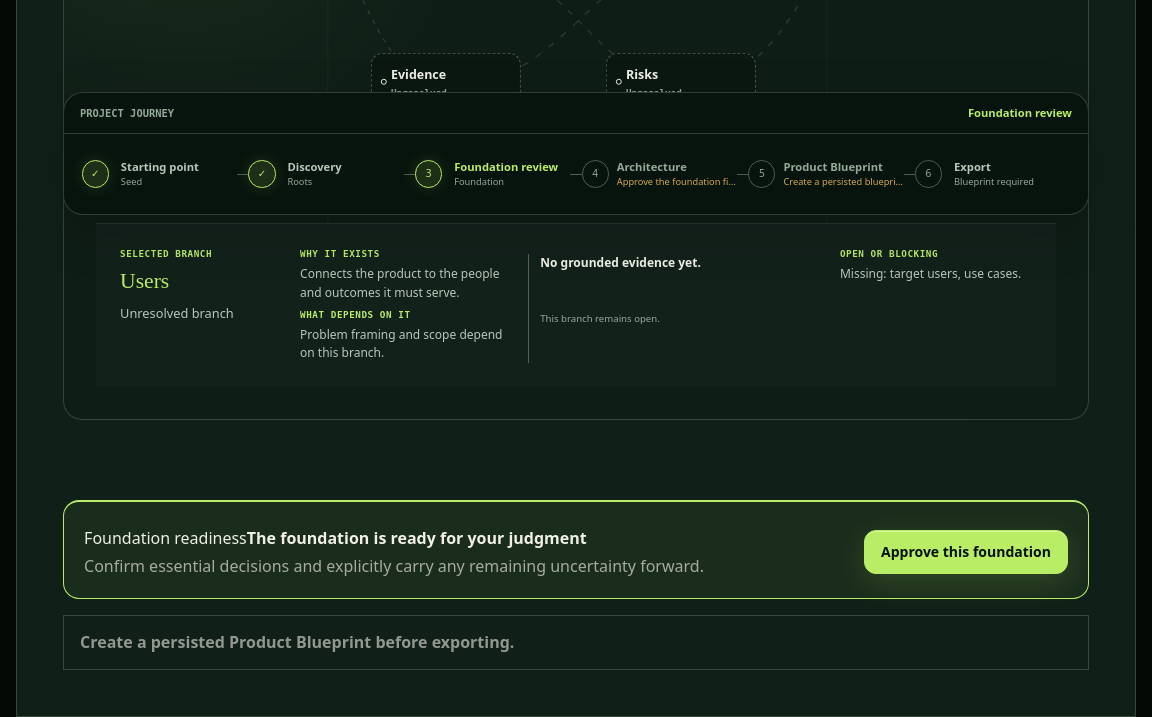
it: Phase 6 foundation experience › shows typed approval blockers and focuses the first useful target
(page scrolled)
Click the button "Approve this foundation".
click(966, 552)  # box [864,530,1068,574]
(page scrolled)
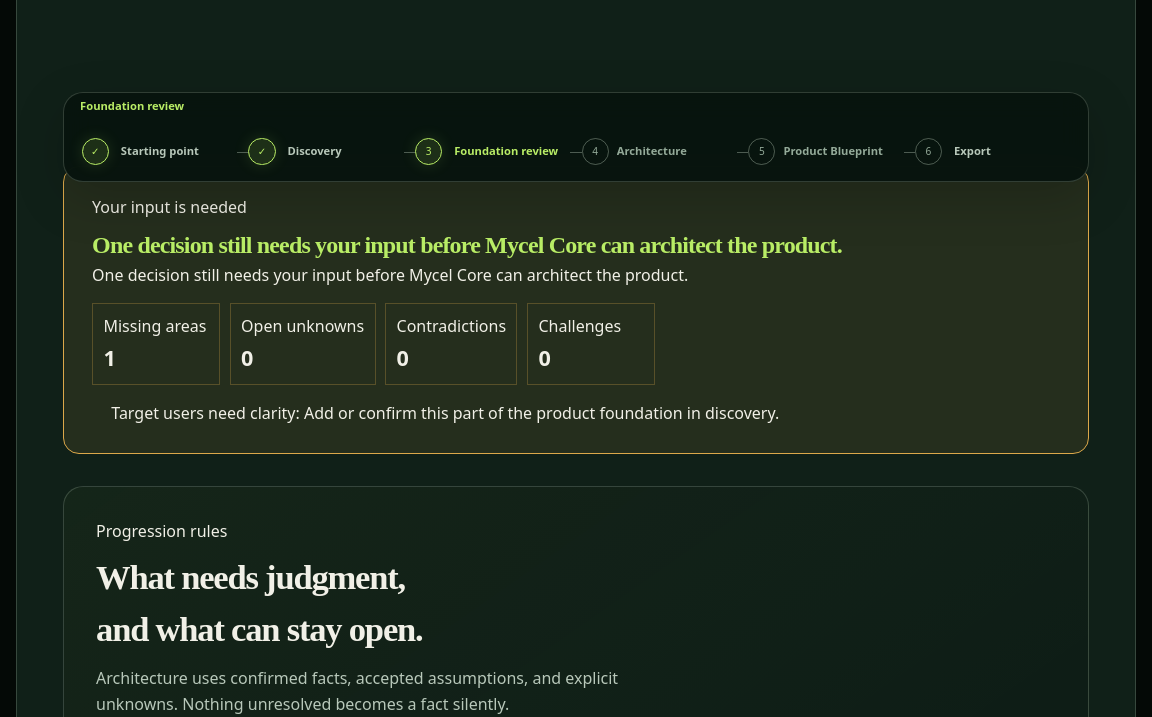
Now the message shows "One decision still needs your input", box [92,232,842,258]
